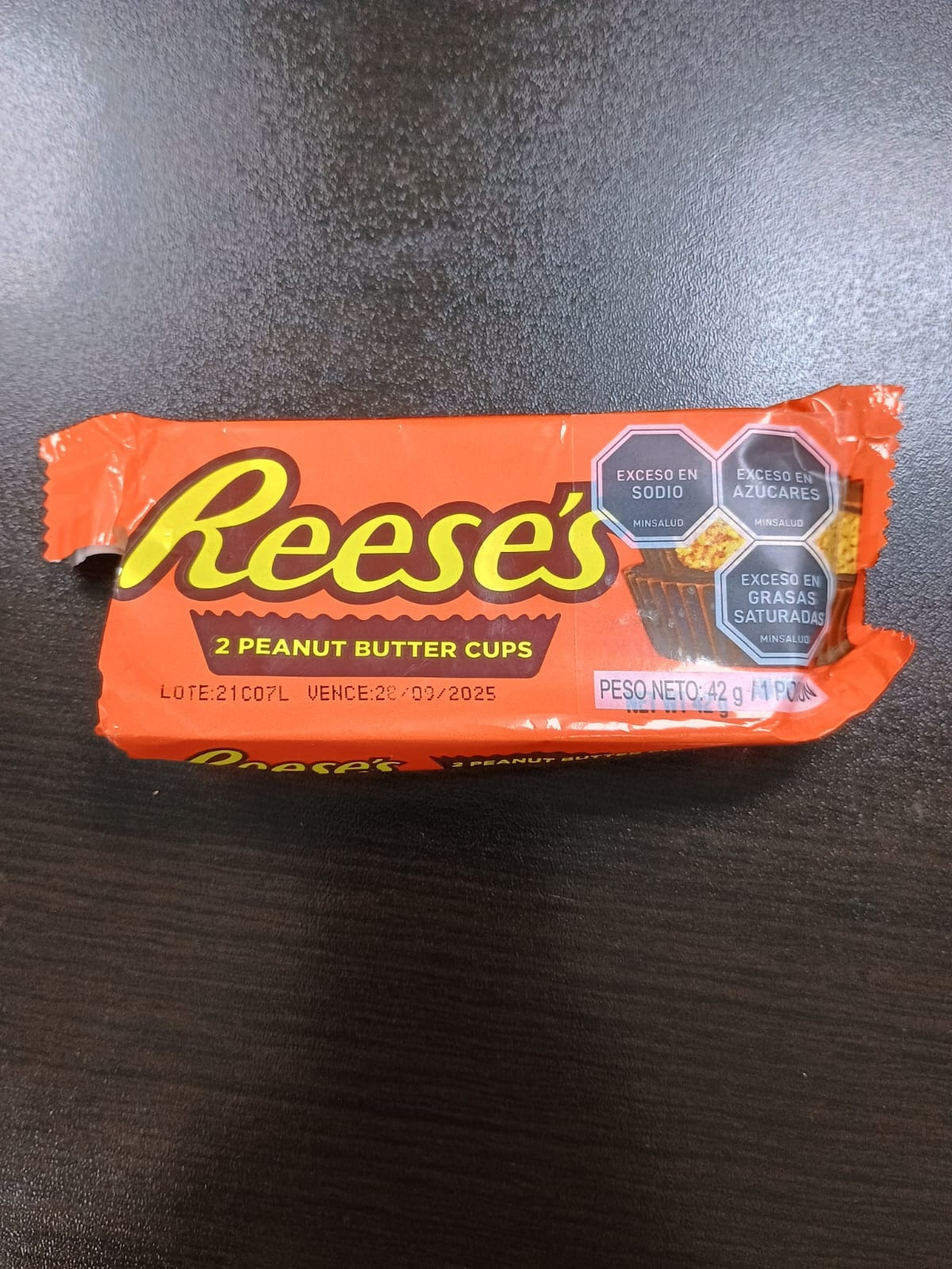Ordinario: (39, 382, 921, 773)
